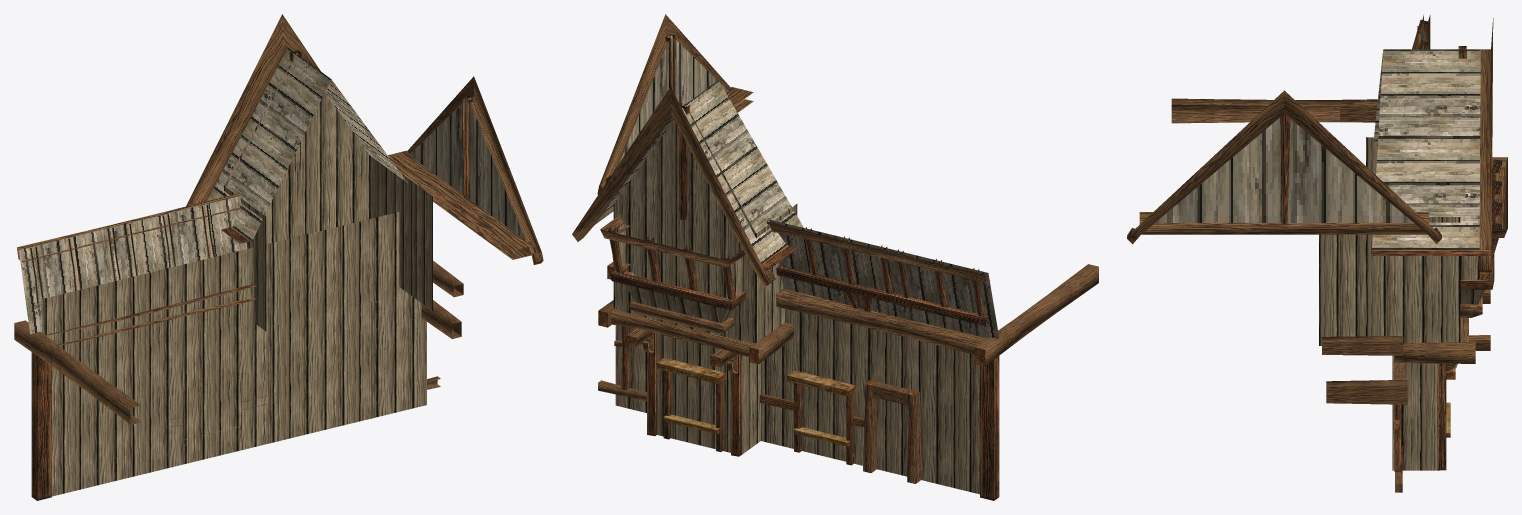
The model's file is LAKETOWN_EXTERIOR_PS_LT_INN74746__GX.fbx.
3 views of the same model, side by side, from view 1: azimuth 30°, elevation 25°; view 2: azimuth 150°, elevation 25°; view 3: azimuth 270°, elevation 25° (orthographic). The views are drawn at different scales.
Visible parts, largest first — view 1: LAKETOWN_EXTERIOR_PS_LT_INN74746__GX; view 2: LAKETOWN_EXTERIOR_PS_LT_INN74746__GX; view 3: LAKETOWN_EXTERIOR_PS_LT_INN74746__GX.
Boxes of the visible parts, x1,y1,x2,y2 form: LAKETOWN_EXTERIOR_PS_LT_INN74746__GX: (14, 14, 543, 500); LAKETOWN_EXTERIOR_PS_LT_INN74746__GX: (572, 14, 1098, 500); LAKETOWN_EXTERIOR_PS_LT_INN74746__GX: (1127, 15, 1507, 492).
Size of the model in its own units: 126638 by 113180 by 90881.
Materials: 12 (12 with a texture image).
